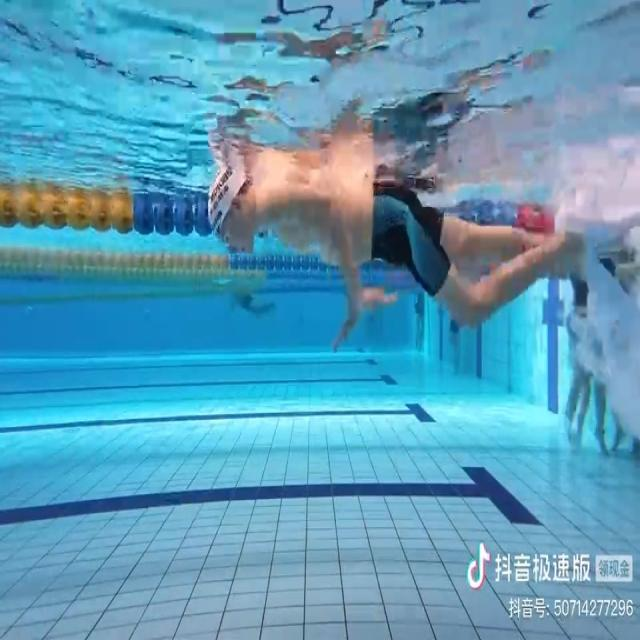Swimming: (203, 151, 585, 346)
